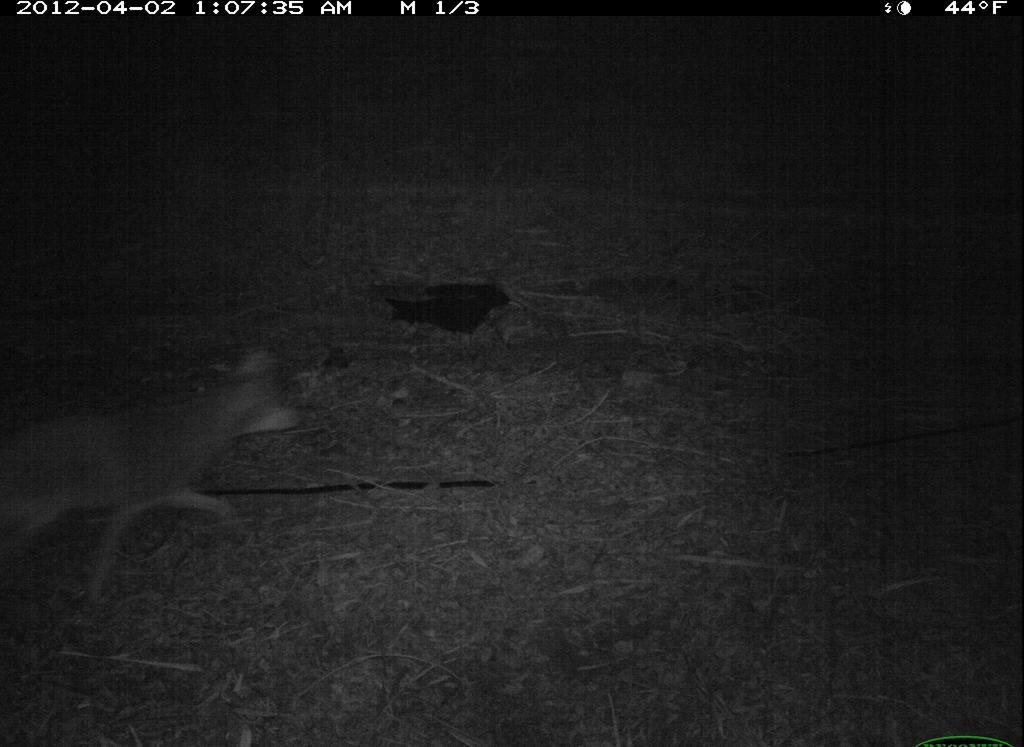coyote: (2, 346, 313, 634)
